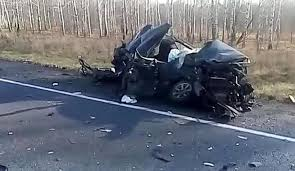car: (101, 27, 255, 115)
